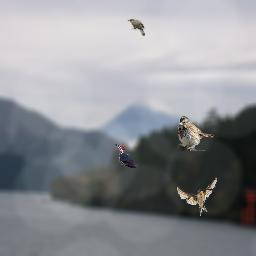Cuckoo: (127, 19, 145, 36)
Sparrow: (178, 116, 218, 151)
Swallow: (177, 177, 217, 216)
Woodpecker: (115, 144, 138, 168)
